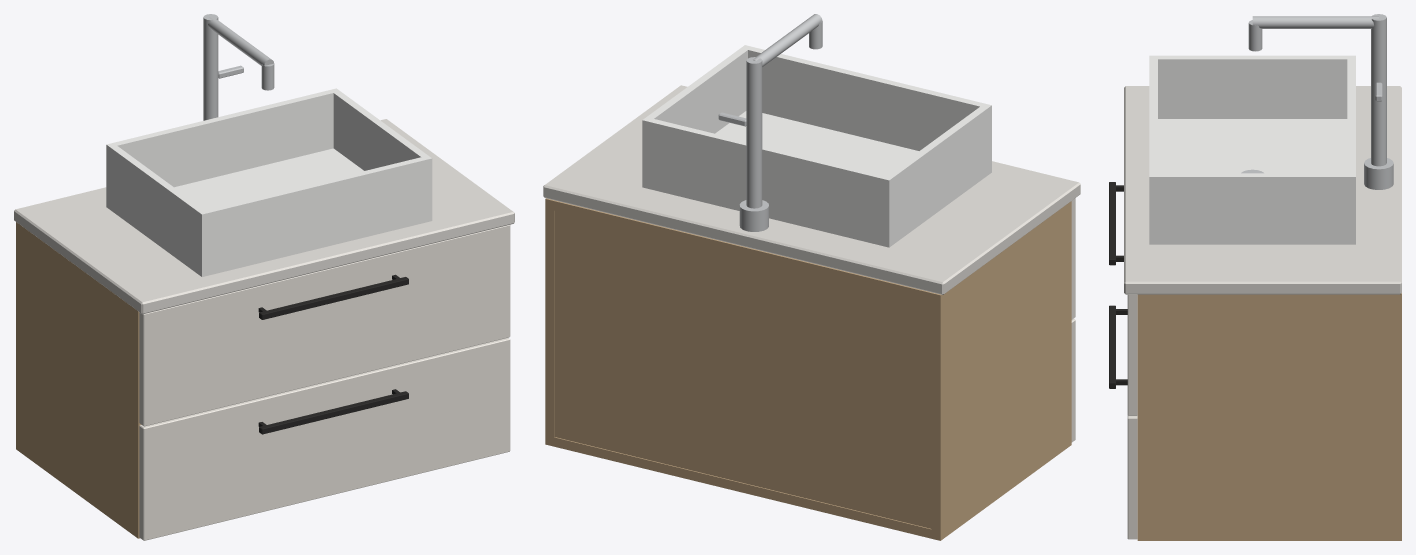
The model's file is 40_szafka_lazienkowa_80.glb.
The picture shows the model from 3 angles, left to right: view 1: azimuth 30°, elevation 25°; view 2: azimuth 150°, elevation 25°; view 3: azimuth 270°, elevation 25°; orthographic projection. The views are drawn at different scales.
Parts seen in each view (by area): view 1: Umywalka, Front_szuflada_2, Front_szuflada_1, Korpus, Blat, Bateria, Uchwyty; view 2: Korpus, Umywalka, Blat, Bateria; view 3: Korpus, Umywalka, Blat, Bateria, Uchwyty, Front_szuflada_2, Front_szuflada_1.
Part boxes in pixels (x1,y1,x2,y2): Umywalka: (106, 88, 432, 276); Front_szuflada_2: (139, 338, 510, 540); Front_szuflada_1: (139, 225, 510, 426); Korpus: (16, 222, 141, 538); Blat: (14, 119, 514, 314); Bateria: (203, 14, 274, 120); Uchwyty: (258, 274, 408, 434); Korpus: (545, 198, 1071, 540); Umywalka: (642, 45, 991, 247); Blat: (543, 85, 1080, 294); Bateria: (718, 14, 822, 231); Korpus: (1137, 293, 1401, 540); Umywalka: (1149, 55, 1355, 244); Blat: (1124, 86, 1401, 294); Bateria: (1248, 14, 1393, 189); Uchwyty: (1109, 182, 1127, 388); Front_szuflada_2: (1127, 415, 1137, 539); Front_szuflada_1: (1127, 294, 1137, 415).
Size of the model in its own units: 0.812 by 0.821 by 0.51.
